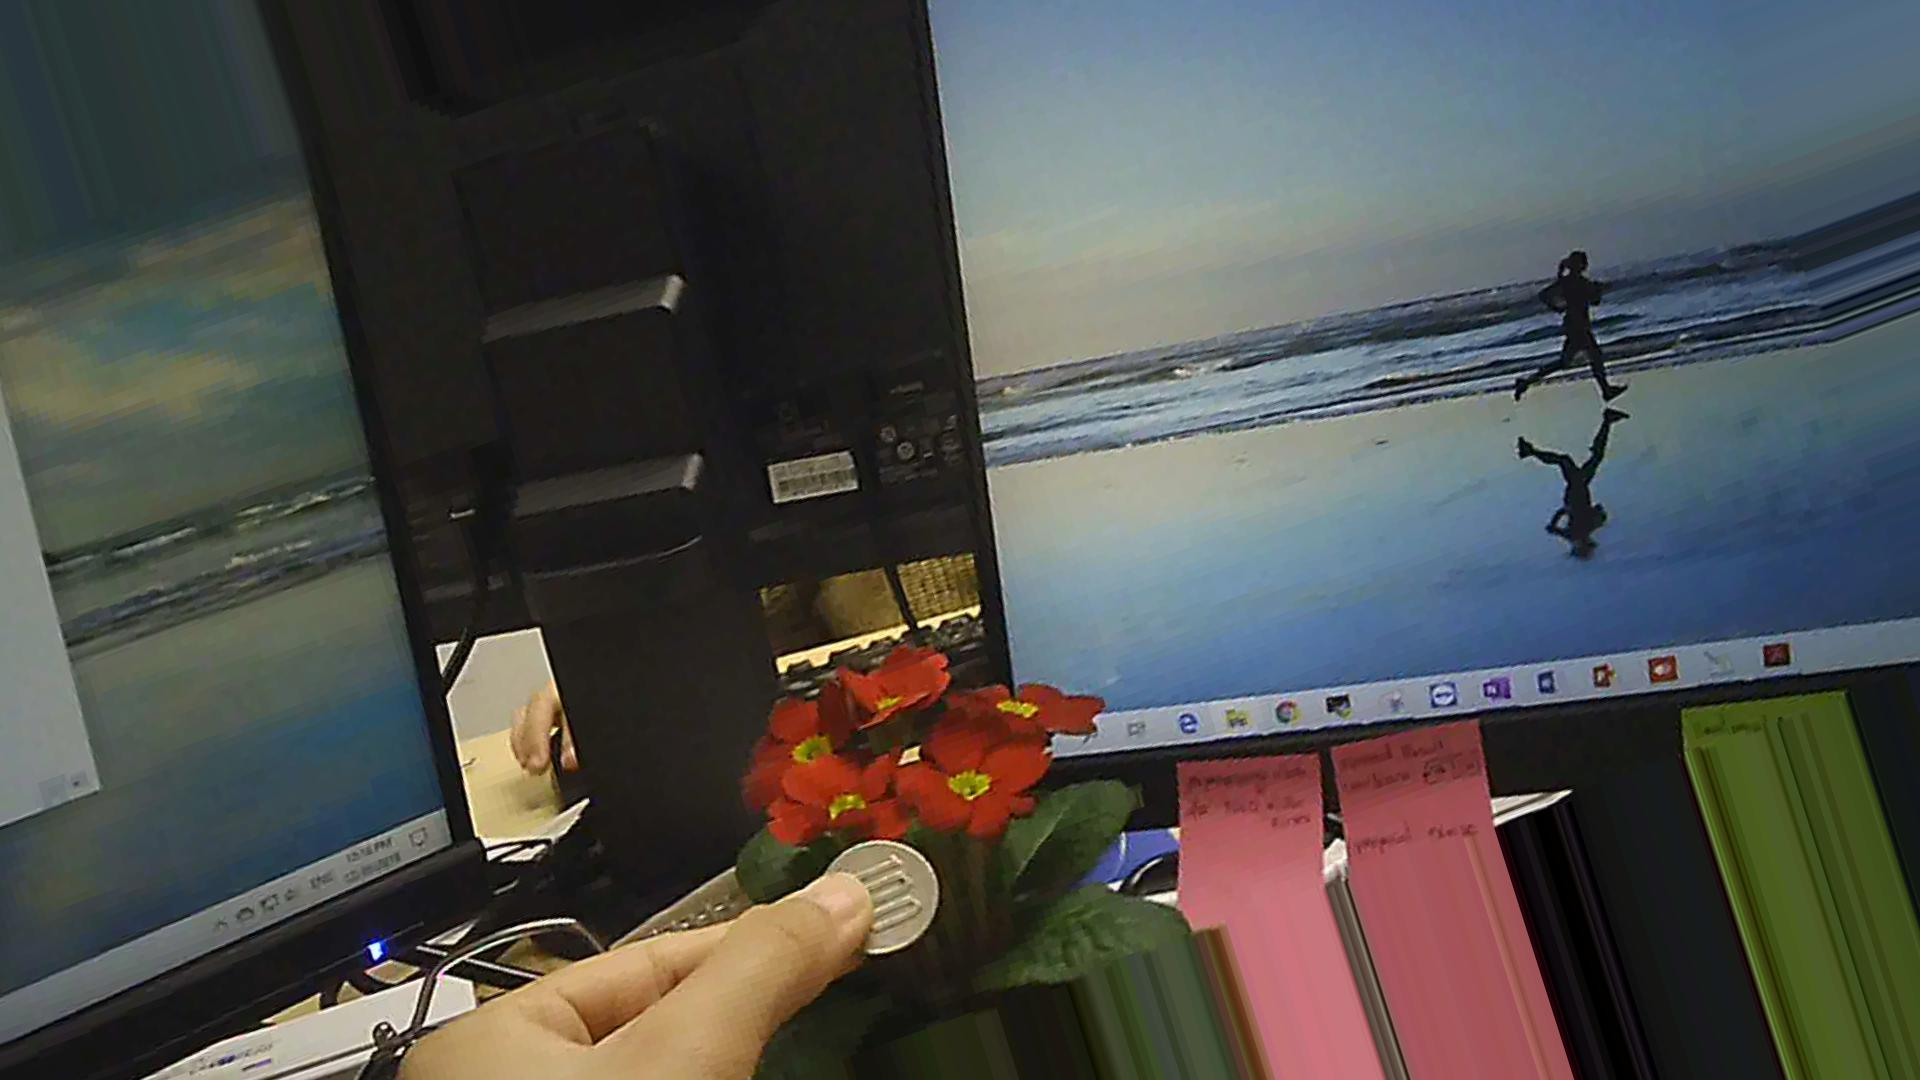100 Yen: (808, 841, 938, 961)
